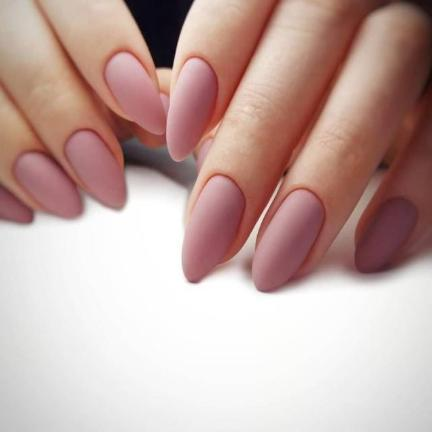Nail: (251, 188, 326, 293), (181, 174, 246, 283), (166, 58, 217, 162), (104, 51, 166, 136), (64, 129, 127, 208), (354, 198, 419, 274), (14, 151, 83, 218), (0, 183, 34, 223)
